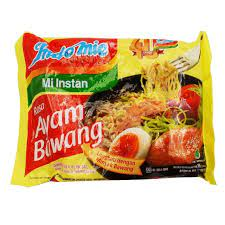indomie ayam bawang: (8, 27, 221, 193)
